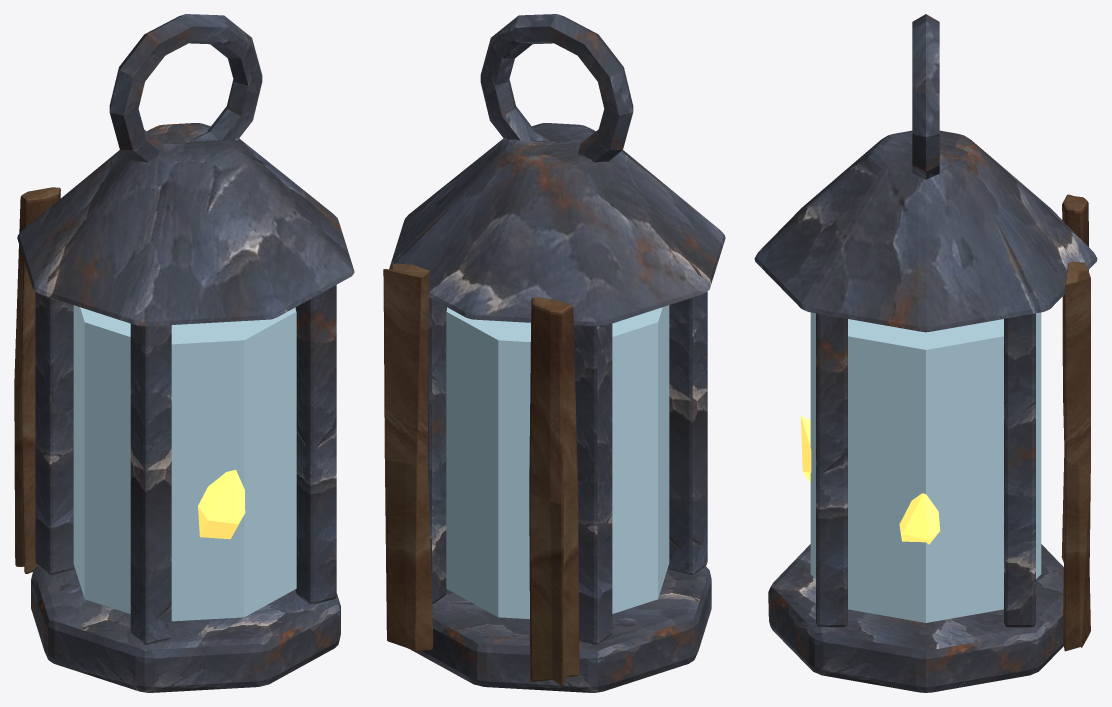
Rendered from lantern_back.glb.
3 views of the same model, side by side, from view 1: azimuth 30°, elevation 25°; view 2: azimuth 150°, elevation 25°; view 3: azimuth 270°, elevation 25° (orthographic).
Visible parts, largest first — view 1: model; view 2: model; view 3: model.
Part boxes in pixels (x1,y1,x2,y2): model: (14,14,354,692); model: (383,14,725,692); model: (754,14,1097,692).
Bounding box in the file's own units: 0.2516 × 0.4927 × 0.2516.
4 materials, 2 textured.
